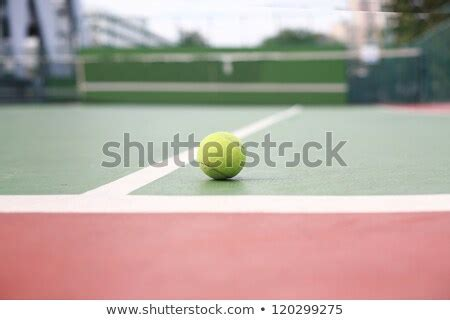tennis_ball: (197, 131, 246, 181)
